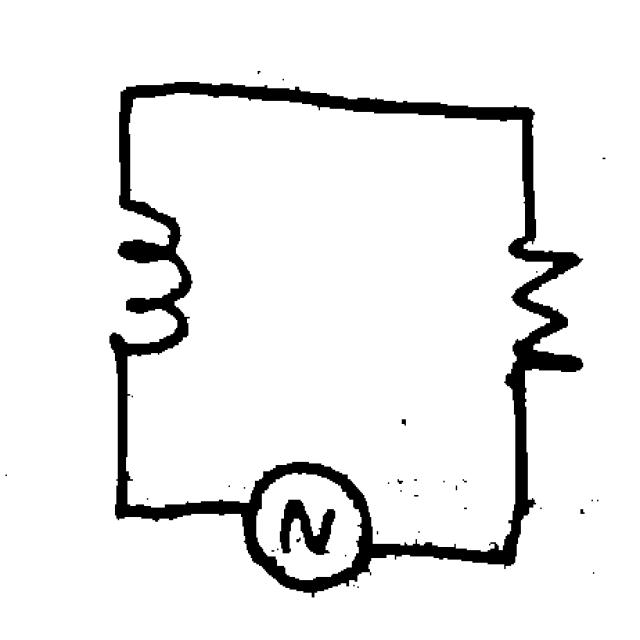ac: (236, 452, 382, 605)
inductor: (98, 184, 197, 361)
resistor: (491, 231, 592, 388)
